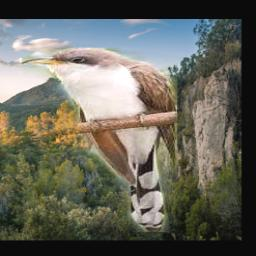Cuckoo: (22, 48, 177, 233)
